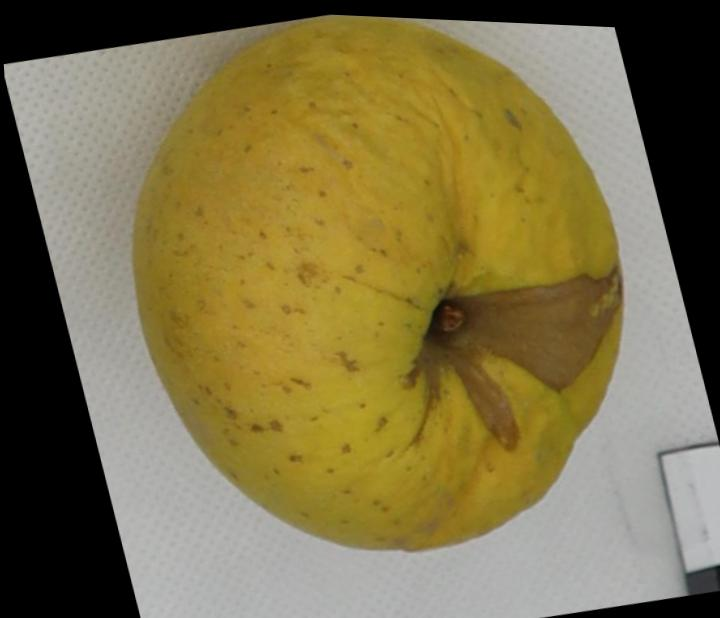apple: (134, 18, 623, 550)
bruise_discoloration: (411, 267, 621, 449)
